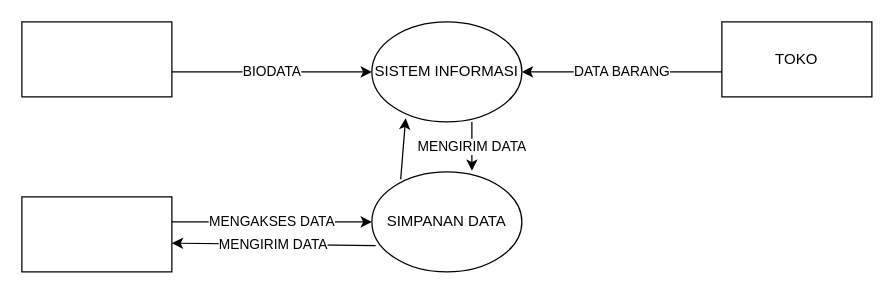
Image size: 894x294. Some labels were removed from this diagram. Here are the shapes that lost their labels. From the top down, the centre of each, then its label:
pixel 96 59: USER
pixel 96 234: ADMIN
